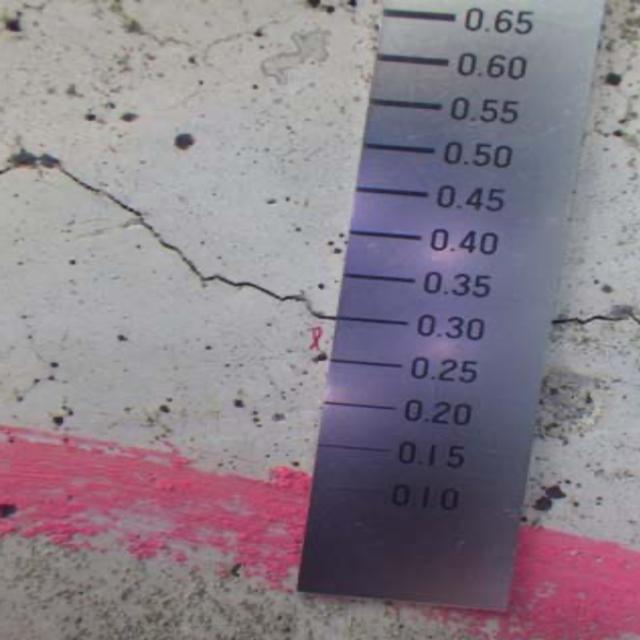crack: (3, 146, 334, 343), (543, 296, 638, 353)
